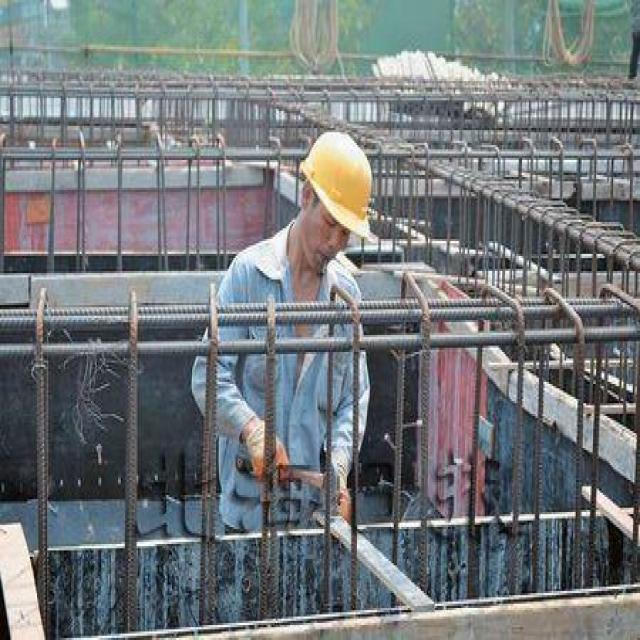hat: (292, 116, 388, 266)
